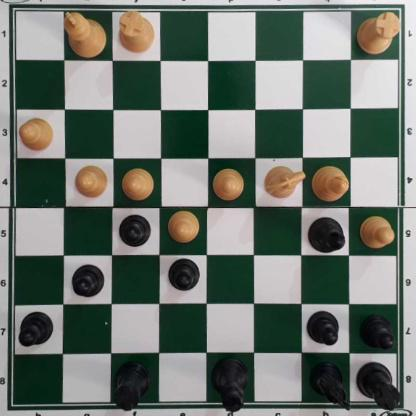black-bishop: (308, 217, 345, 255)
black-king: (209, 357, 250, 412)
black-knight: (310, 365, 351, 410)
black-pawn: (360, 316, 397, 354), (18, 312, 54, 349), (118, 215, 152, 250), (167, 260, 201, 295), (308, 312, 340, 349), (72, 265, 105, 300)
black-rook: (356, 363, 402, 415), (113, 363, 152, 412)
white-bishop: (312, 167, 349, 203)
white-king: (64, 10, 107, 60)
white-knight: (264, 164, 304, 201)
white-pawn: (19, 117, 56, 153), (75, 165, 109, 201), (167, 212, 203, 245), (359, 217, 395, 250), (122, 169, 155, 203), (213, 169, 246, 201)
white-rook: (356, 13, 402, 56), (118, 12, 155, 53)
